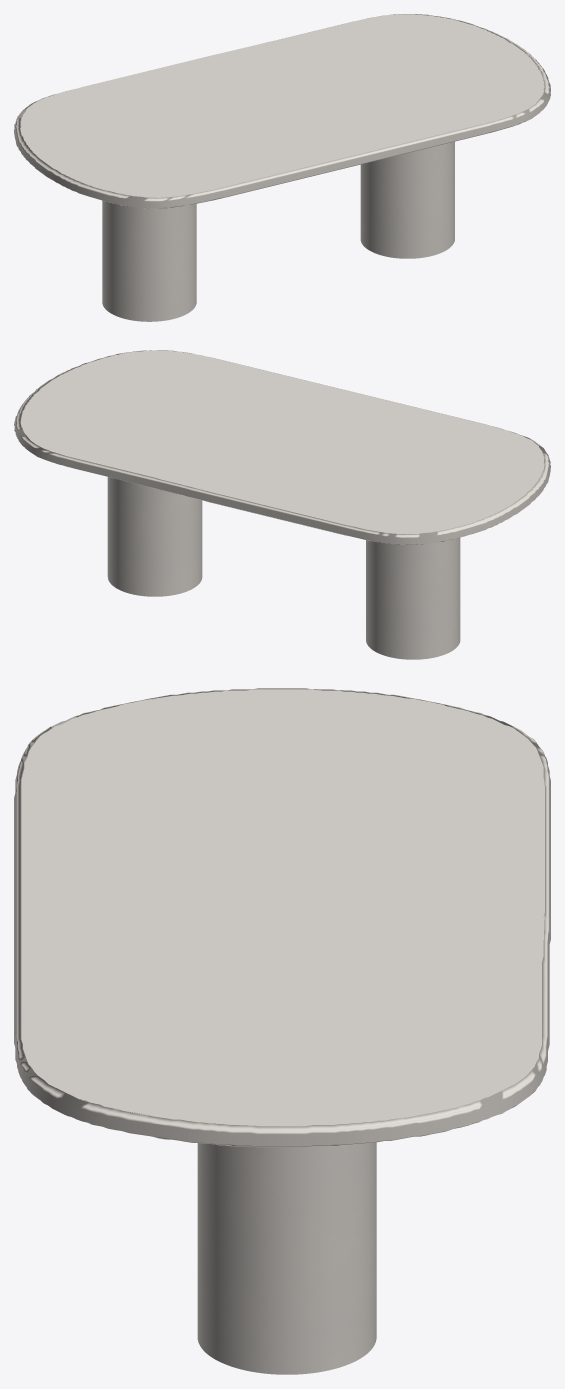
The model's file is pearlwhite_oval_round_stream.glb.
3 views of the same model, one above another, from view 1: azimuth 30°, elevation 25°; view 2: azimuth 150°, elevation 25°; view 3: azimuth 270°, elevation 25° (orthographic). The views are drawn at different scales.
Visible parts, largest first — view 1: round_oval, stream; view 2: round_oval, stream; view 3: round_oval, stream.
Part boxes in pixels (<box>): round_oval: <box>14,14,550,208</box>; stream: <box>102,141,454,321</box>; round_oval: <box>14,350,550,544</box>; stream: <box>107,477,460,659</box>; round_oval: <box>14,688,550,1147</box>; stream: <box>197,1142,376,1374</box>.
Size of the model in its own units: 7.69 by 2.5 by 3.9.
Materials: 1 (1 with a texture image).
